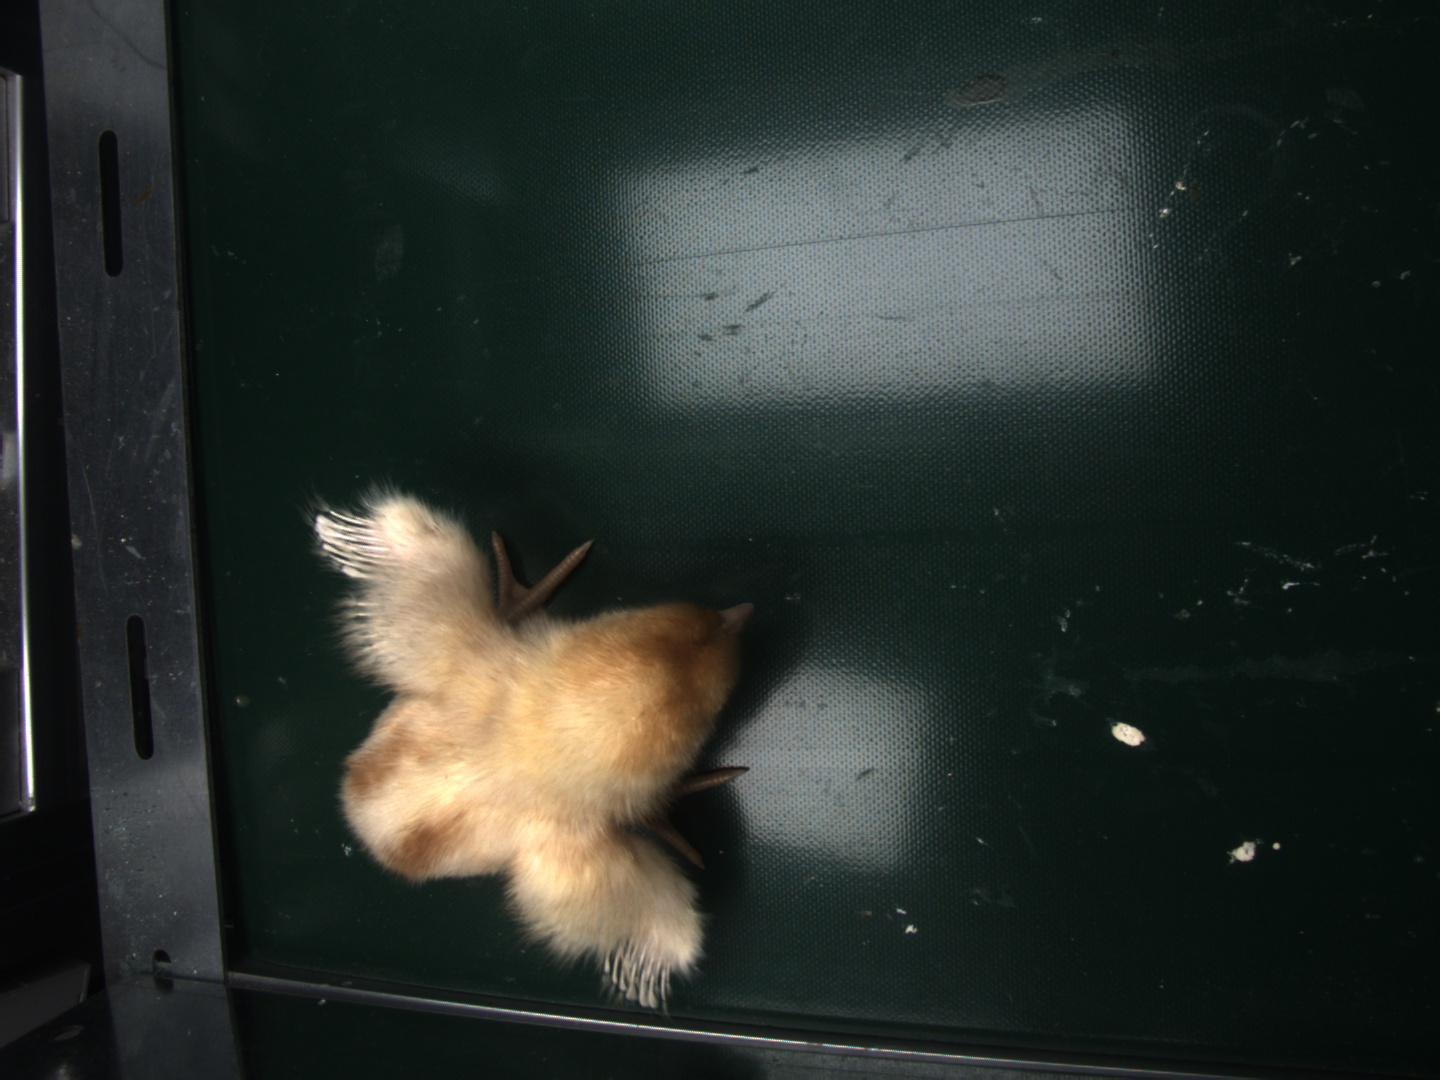female: (315, 506, 389, 583)
